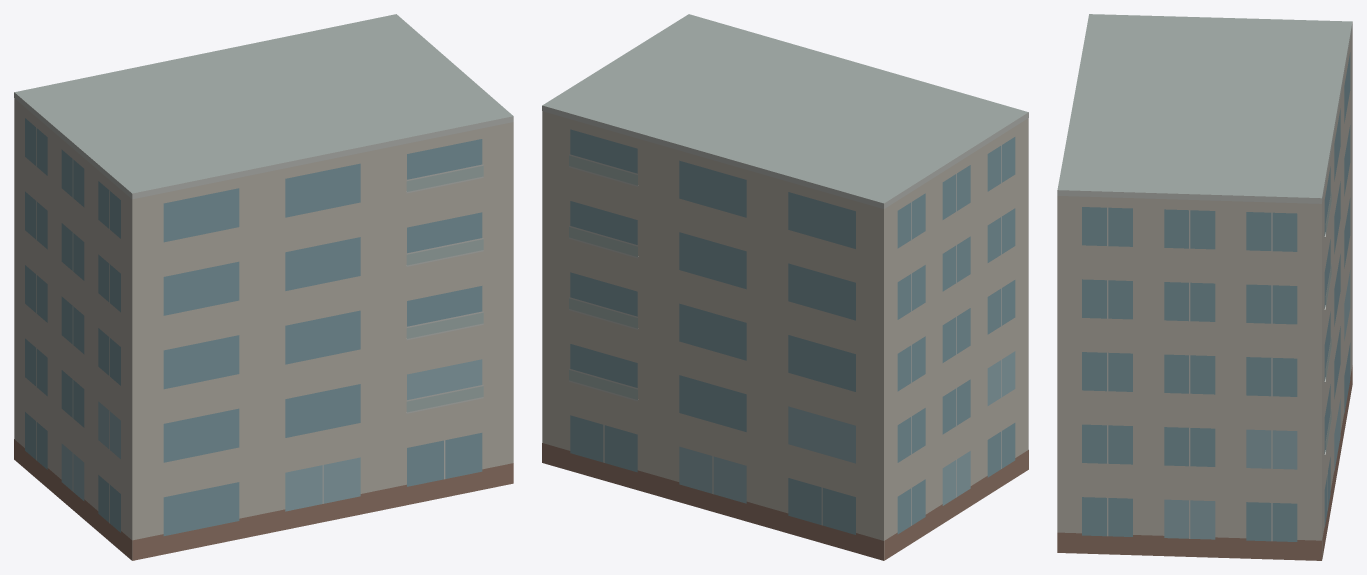
The model's file is survey-upis-32652700.glb.
3 views of the same model, side by side, from view 1: azimuth 30°, elevation 25°; view 2: azimuth 150°, elevation 25°; view 3: azimuth 270°, elevation 25° (orthographic). The views are drawn at different scales.
Parts seen in each view (by area): view 1: survey-upis-32652700.tmp; view 2: survey-upis-32652700.tmp; view 3: survey-upis-32652700.tmp.
Part boxes in pixels (<box>): survey-upis-32652700.tmp: <box>14,14,513,560</box>; survey-upis-32652700.tmp: <box>542,14,1028,560</box>; survey-upis-32652700.tmp: <box>1057,14,1352,560</box>.
Size of the model in its own units: 16.84 by 15.46 by 11.41.
